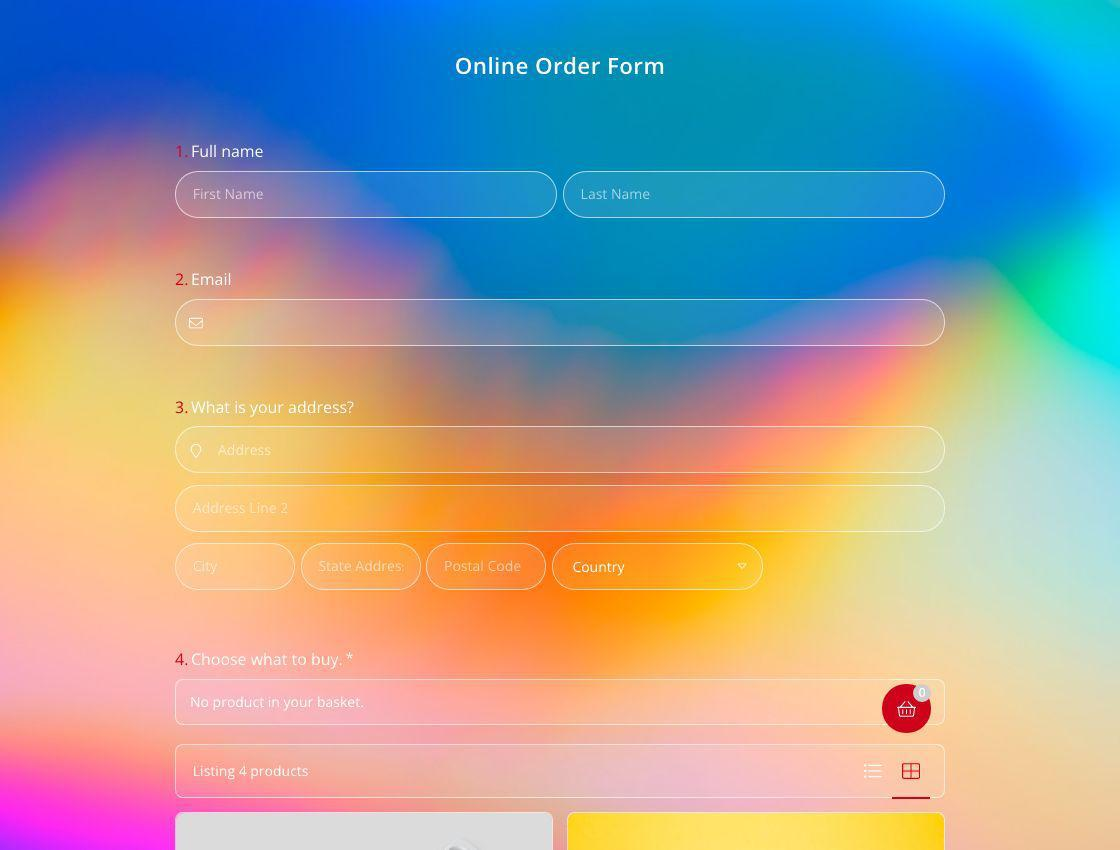dropdown: (551, 542, 770, 594)
icon: (859, 759, 886, 787), (894, 697, 921, 722), (902, 762, 923, 783)
input: (173, 741, 949, 801), (175, 676, 949, 729), (175, 424, 948, 477), (175, 299, 949, 348), (176, 486, 947, 534), (564, 169, 948, 221), (174, 172, 560, 221), (174, 541, 299, 593), (425, 542, 550, 593), (302, 541, 424, 593)
label: (189, 649, 357, 672), (189, 398, 356, 416), (191, 146, 266, 160), (192, 272, 235, 290)
